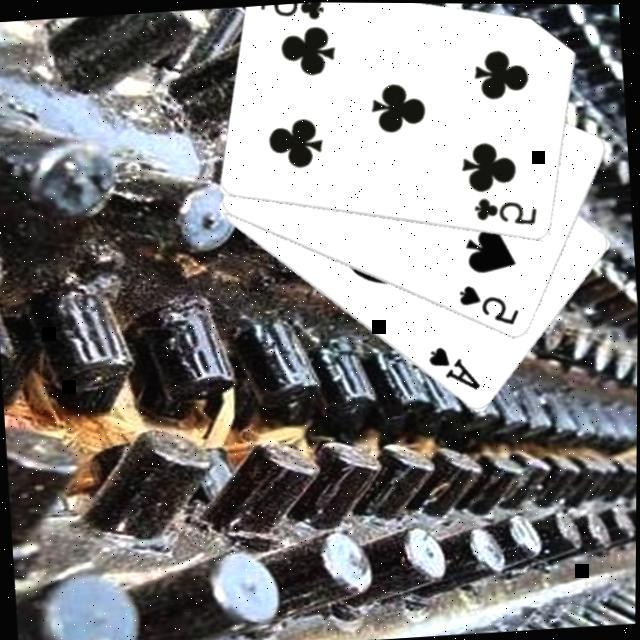5C: (471, 192, 542, 232), (258, 1, 328, 26)
5S: (455, 280, 524, 333)
AS: (425, 342, 484, 398)
